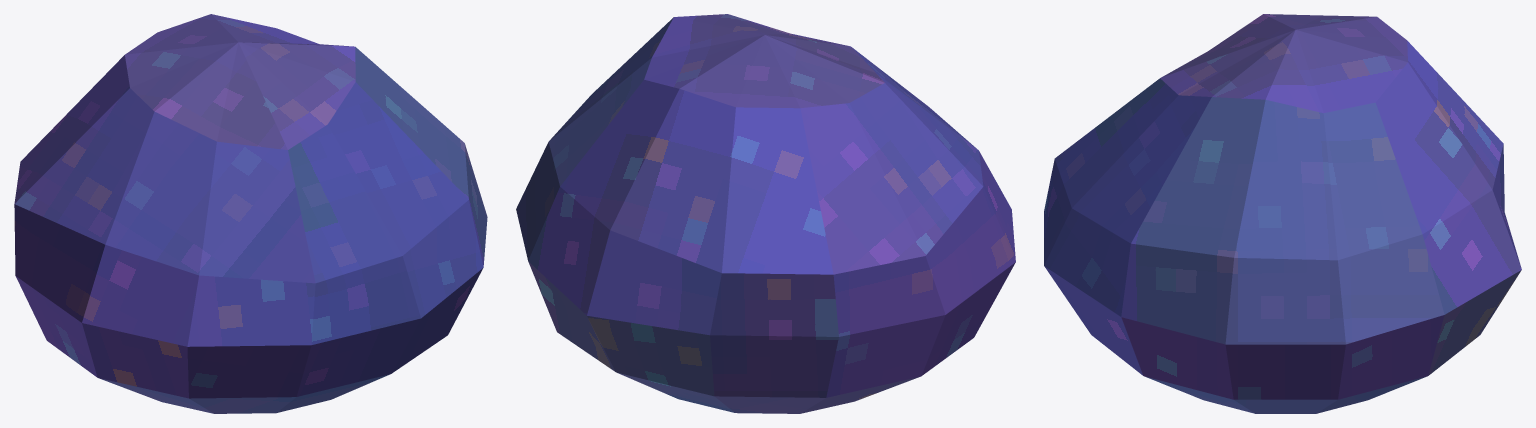
Rendered from Rocks.obj.
The picture shows the model from 3 angles, left to right: view 1: azimuth 30°, elevation 25°; view 2: azimuth 150°, elevation 25°; view 3: azimuth 270°, elevation 25°; orthographic projection. The views are drawn at different scales.
Visible parts, largest first — view 1: BigRock1; view 2: BigRock1; view 3: BigRock1.
Part boxes in pixels (x1=…): BigRock1: x1=14, y1=14, x2=487, y2=413; BigRock1: x1=516, y1=14, x2=1015, y2=413; BigRock1: x1=1044, y1=14, x2=1521, y2=413.
Bounding box in the file's own units: 1.33 × 1.04 × 1.3.
Materials: 1 (1 with a texture image).
